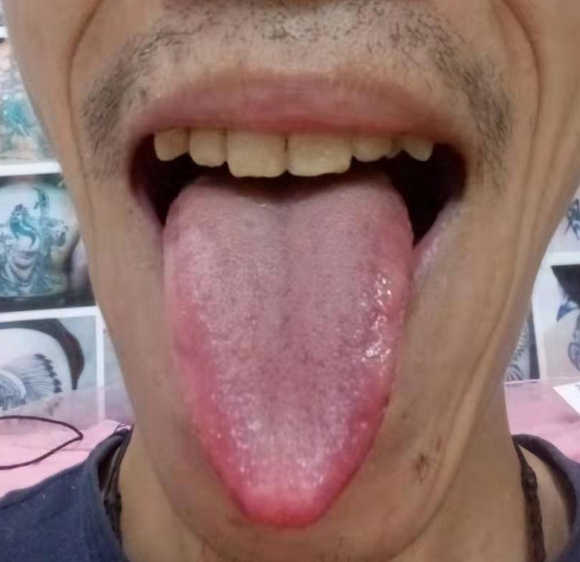baitaishe: (162, 165, 414, 530)
hongshe: (162, 166, 414, 531)
